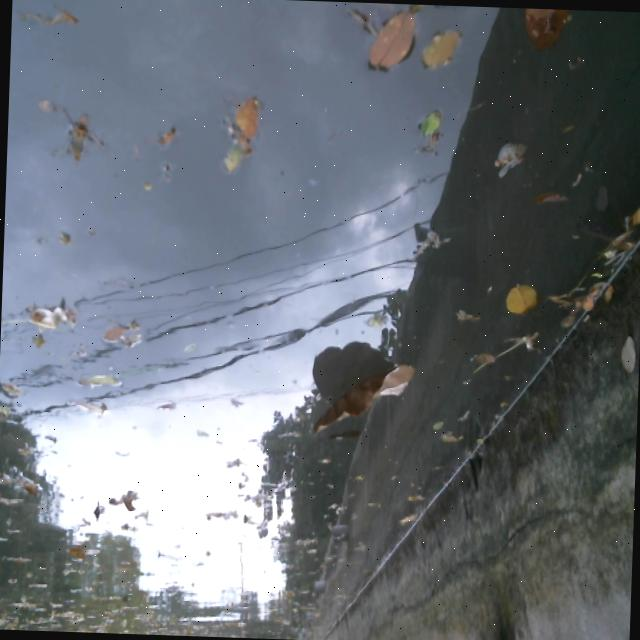Big-leaf: (303, 355, 418, 440)
Small-leaf: (365, 4, 419, 76), (512, 7, 580, 62), (416, 22, 465, 78), (483, 135, 532, 182), (25, 295, 79, 337), (229, 93, 266, 148), (62, 109, 93, 167), (502, 279, 541, 323), (413, 102, 447, 146), (528, 185, 571, 218), (72, 366, 127, 391), (97, 318, 138, 350), (218, 137, 244, 181), (66, 397, 111, 421), (106, 489, 139, 519), (0, 376, 24, 410), (18, 480, 47, 506), (468, 347, 498, 368), (393, 507, 417, 531), (427, 415, 447, 436), (89, 500, 105, 526), (626, 203, 640, 230)
